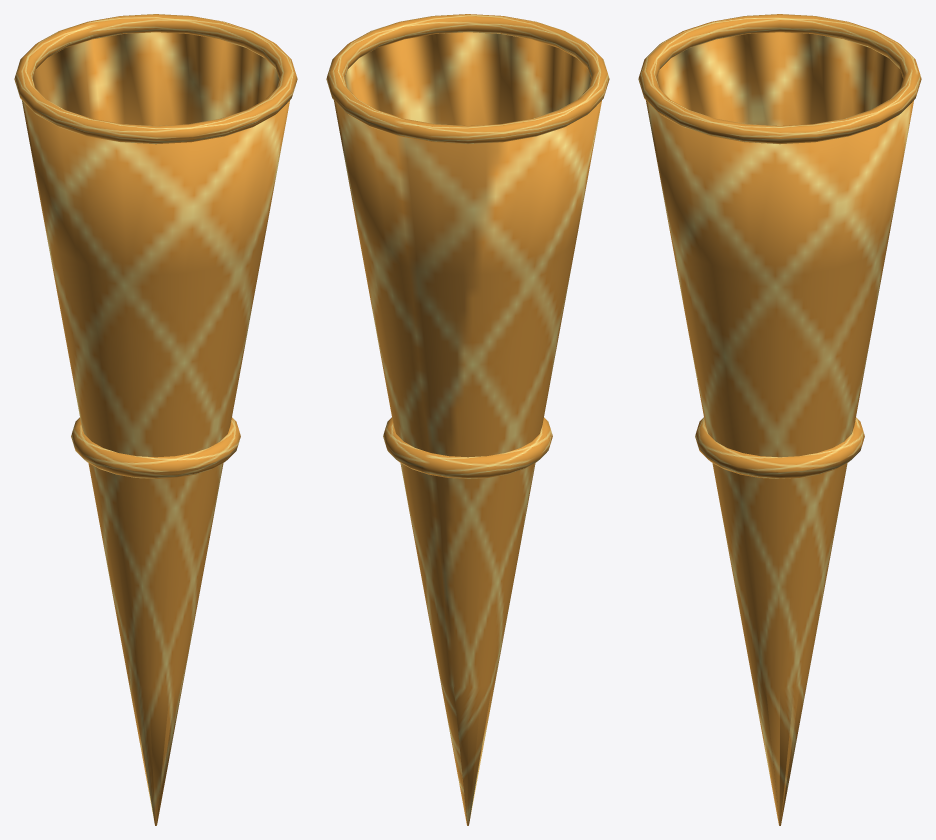
3 renders of one model, left to right at view 1: azimuth 30°, elevation 25°; view 2: azimuth 150°, elevation 25°; view 3: azimuth 270°, elevation 25°, orthographic.
Parts seen in each view (by area): view 1: Cone001, Torus001, Torus002; view 2: Cone001, Torus001, Torus002; view 3: Cone001, Torus001, Torus002.
Part boxes in pixels (<box>): Cone001: <box>22,32,289,825</box>; Torus001: <box>14,14,297,144</box>; Torus002: <box>71,417,240,478</box>; Cone001: <box>334,32,601,825</box>; Torus001: <box>326,14,609,144</box>; Torus002: <box>383,417,552,478</box>; Cone001: <box>646,32,913,825</box>; Torus001: <box>638,14,921,144</box>; Torus002: <box>695,417,864,478</box>.
Bounding box in the file's own units: 1.08 × 3.16 × 1.08.
